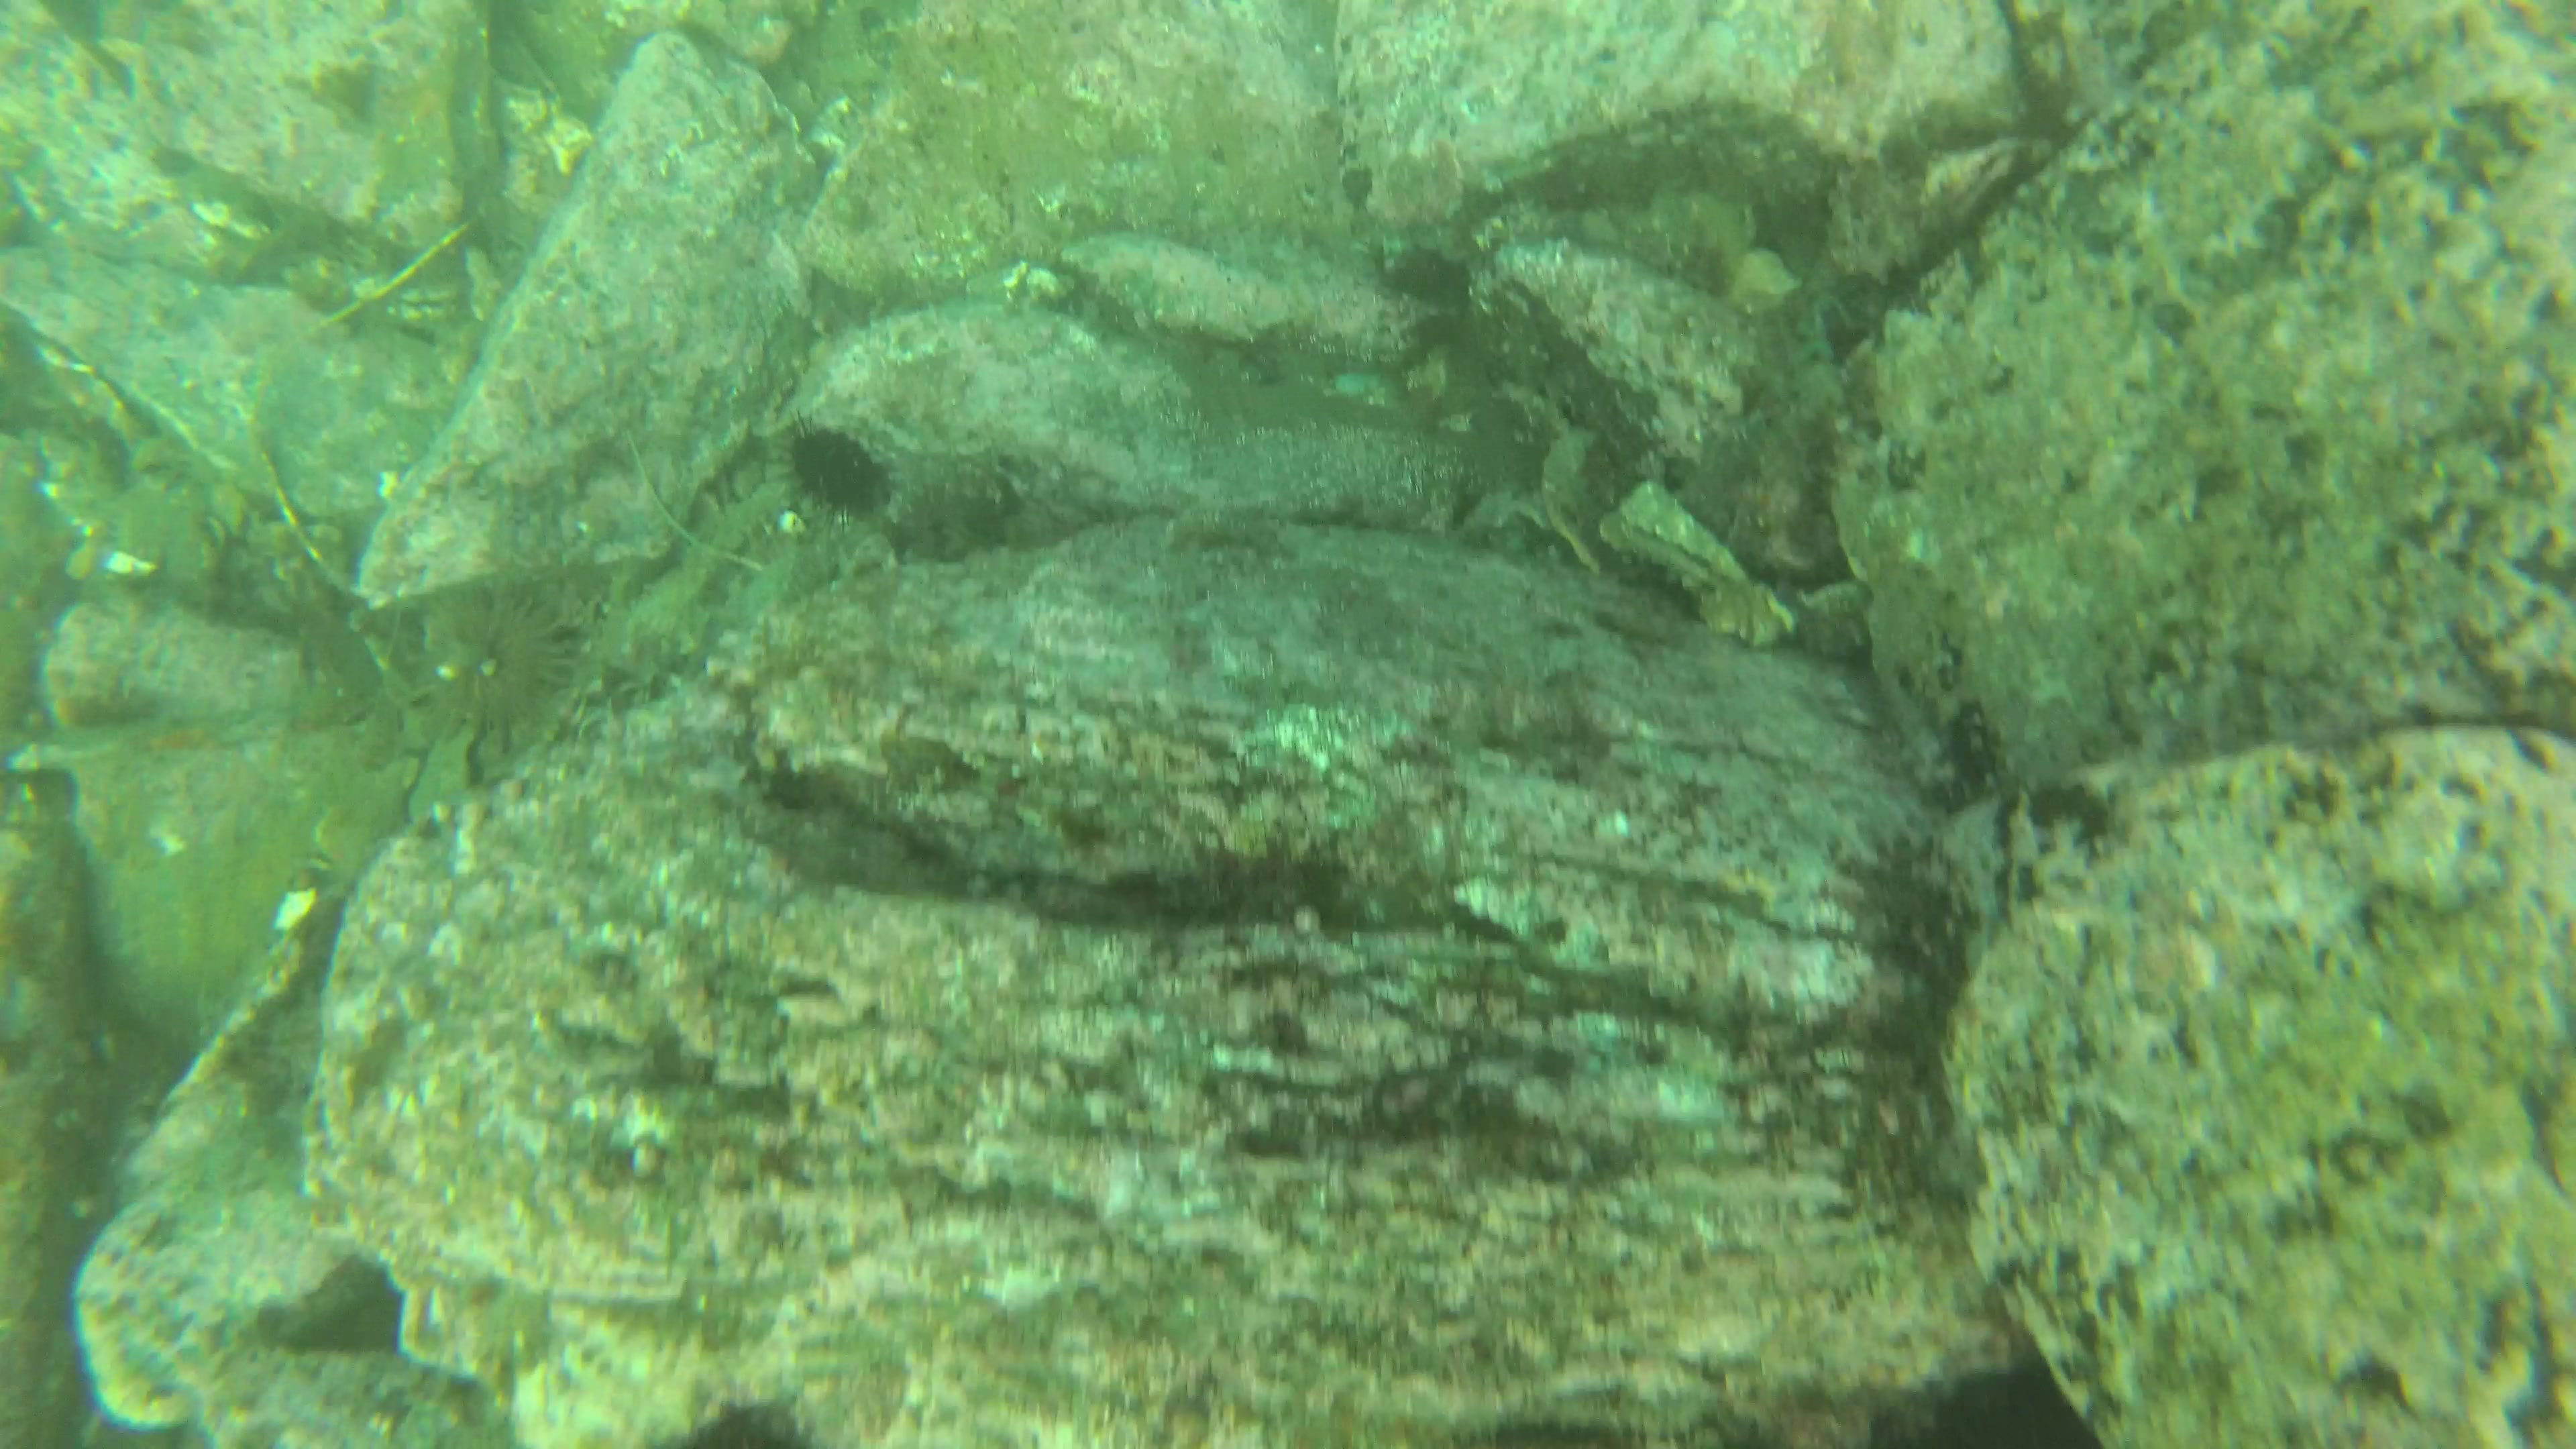echinus: (400, 580, 589, 745), (761, 410, 892, 525)
